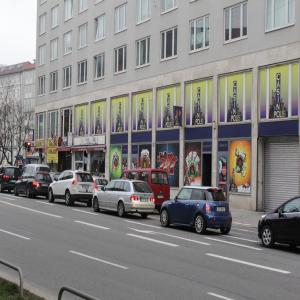Vehicle-registration-plate: (217, 207, 226, 212), (141, 199, 149, 202), (84, 186, 91, 188), (43, 184, 49, 186), (158, 196, 164, 198)
